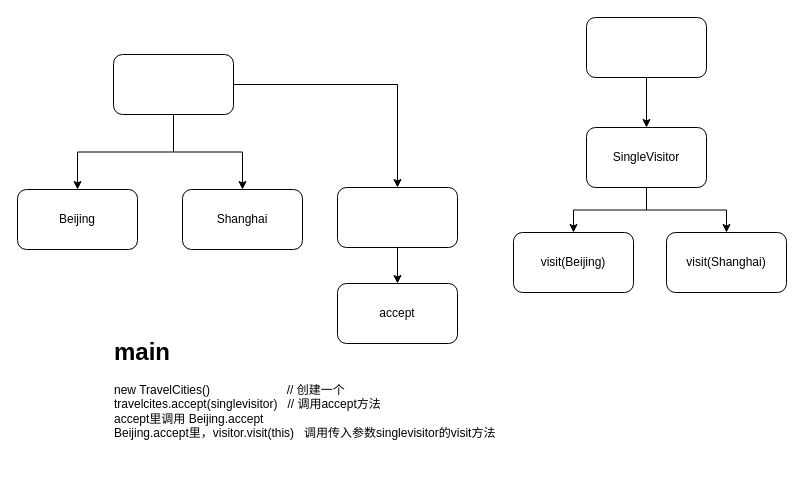
Image size: 804x477. Some labels were removed from this diagram. Each missing label, with the centre of its shape:
City interface: the point at 173,84
TravelCities: the point at 397,217
Visitor interface: the point at 646,47
